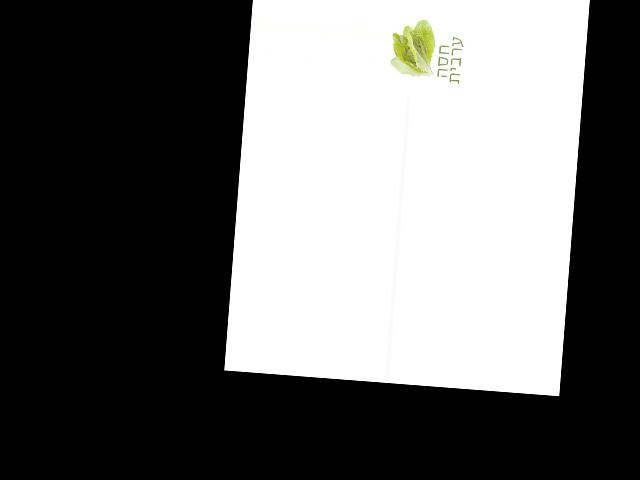lettuce: (388, 17, 442, 82)
